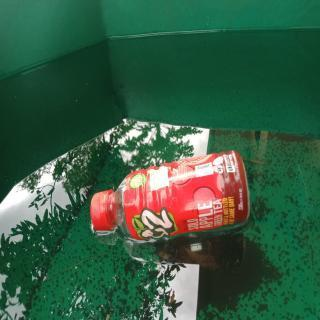bottle: (89, 148, 253, 241)
